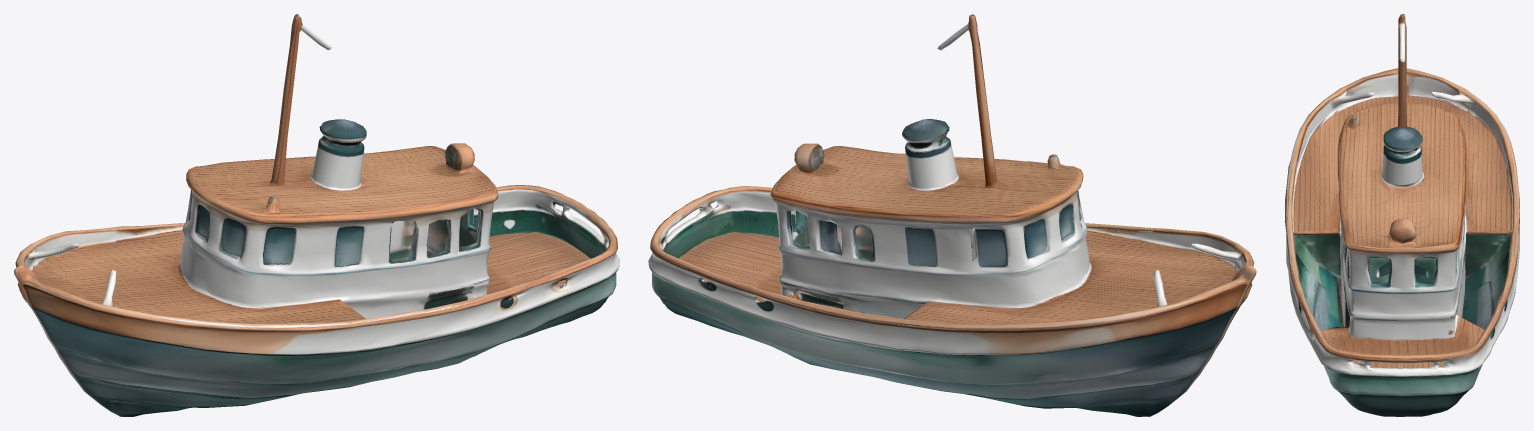
File: green-ship.glb
The picture shows the model from 3 angles, left to right: view 1: azimuth 30°, elevation 25°; view 2: azimuth 150°, elevation 25°; view 3: azimuth 270°, elevation 25°; orthographic projection. The views are drawn at different scales.
Bounding box in the file's own units: 1.91 × 1.15 × 0.8023.
1 material, 1 textured.
